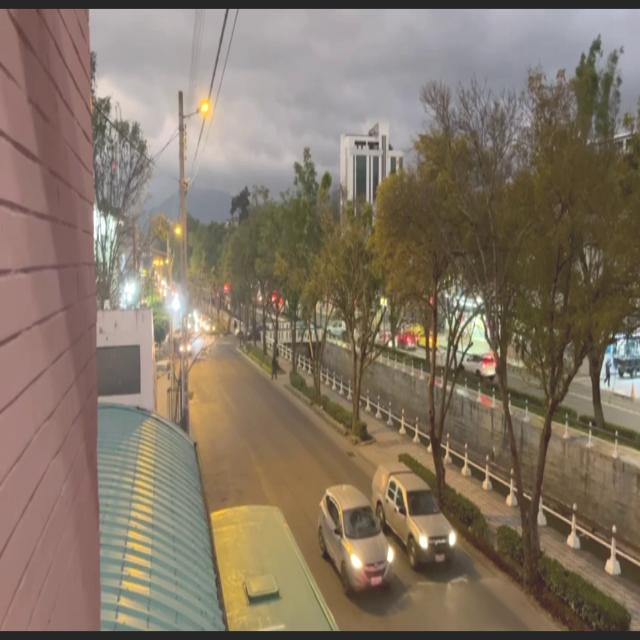CMT: (378, 465, 455, 566)
SUV: (324, 491, 379, 592)
